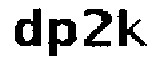2: (79, 4, 114, 52)
d: (10, 4, 43, 49)
k: (116, 4, 149, 50)
p: (47, 15, 79, 60)
